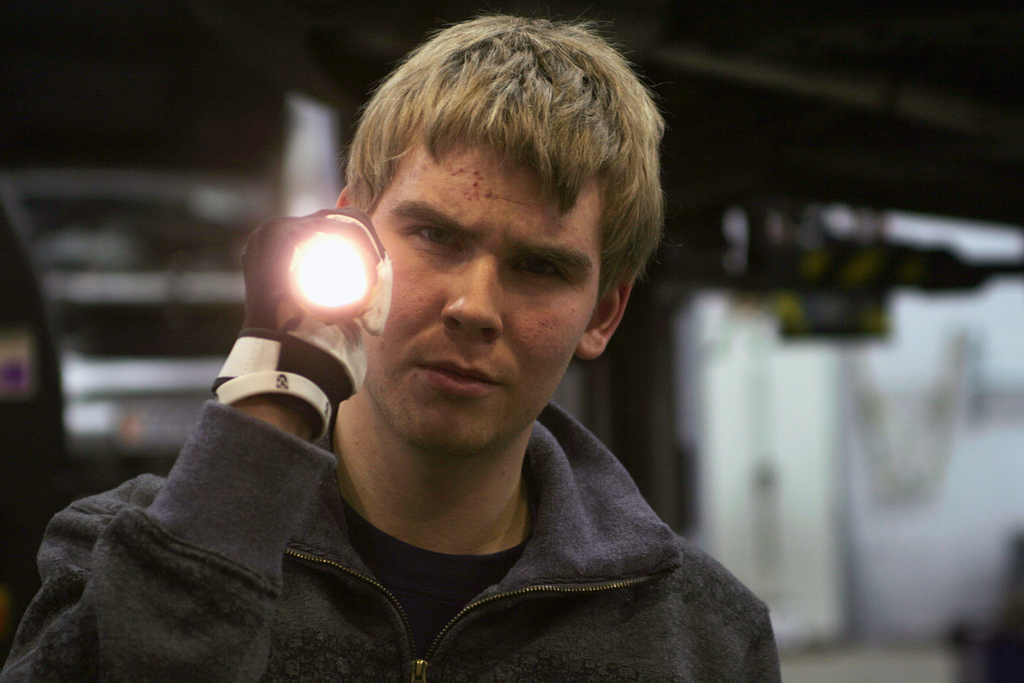Human-face: (365, 145, 598, 454)
